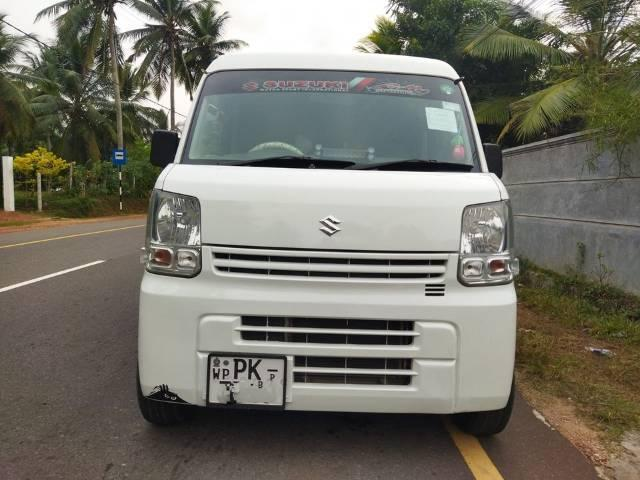car: (141, 40, 524, 430)
